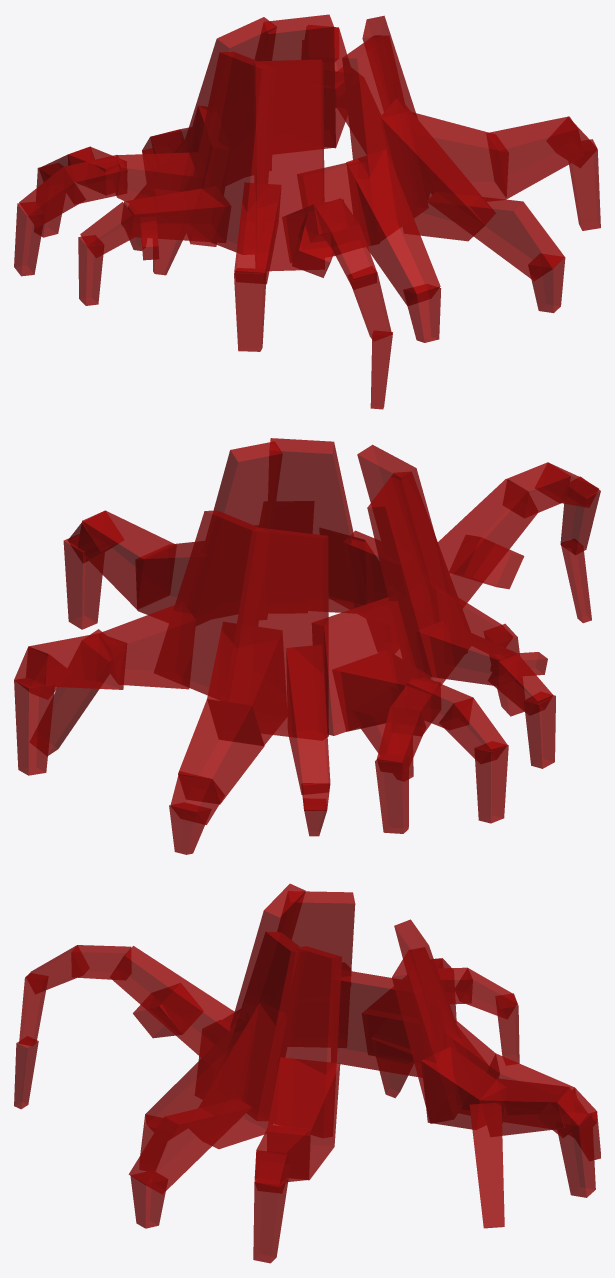
File: SM_Prop_Swamp_Trunk_01_Collision.fbx
3 renders of one model, top to bottom at view 1: azimuth 30°, elevation 25°; view 2: azimuth 150°, elevation 25°; view 3: azimuth 270°, elevation 25°, orthographic. The views are drawn at different scales.
Visible parts, largest first — view 1: SM_Prop_Swamp_Trunk_01_Collision; view 2: SM_Prop_Swamp_Trunk_01_Collision; view 3: SM_Prop_Swamp_Trunk_01_Collision.
Part boxes in pixels (bbox=[...]): SM_Prop_Swamp_Trunk_01_Collision: bbox=[14, 14, 600, 409]; SM_Prop_Swamp_Trunk_01_Collision: bbox=[14, 438, 600, 854]; SM_Prop_Swamp_Trunk_01_Collision: bbox=[14, 883, 600, 1263].
Size of the model in its own units: 1360 by 688 by 1458.
